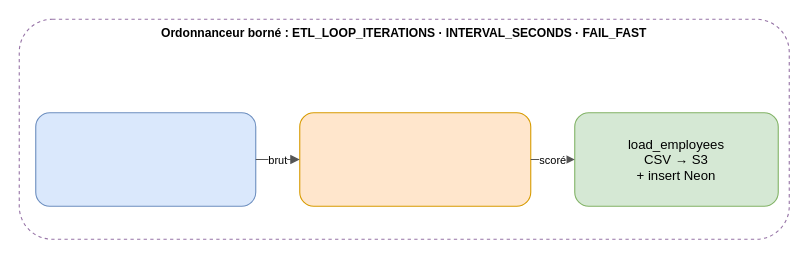
This 809x259 diagram has some shape labels left out. The centre of each missing label's shape, as x and y in pixels:
extract_employees API données + backup brut S3: point 145,159
transform_employees POST /predict (ligne) + prediction / proba: point 415,159
